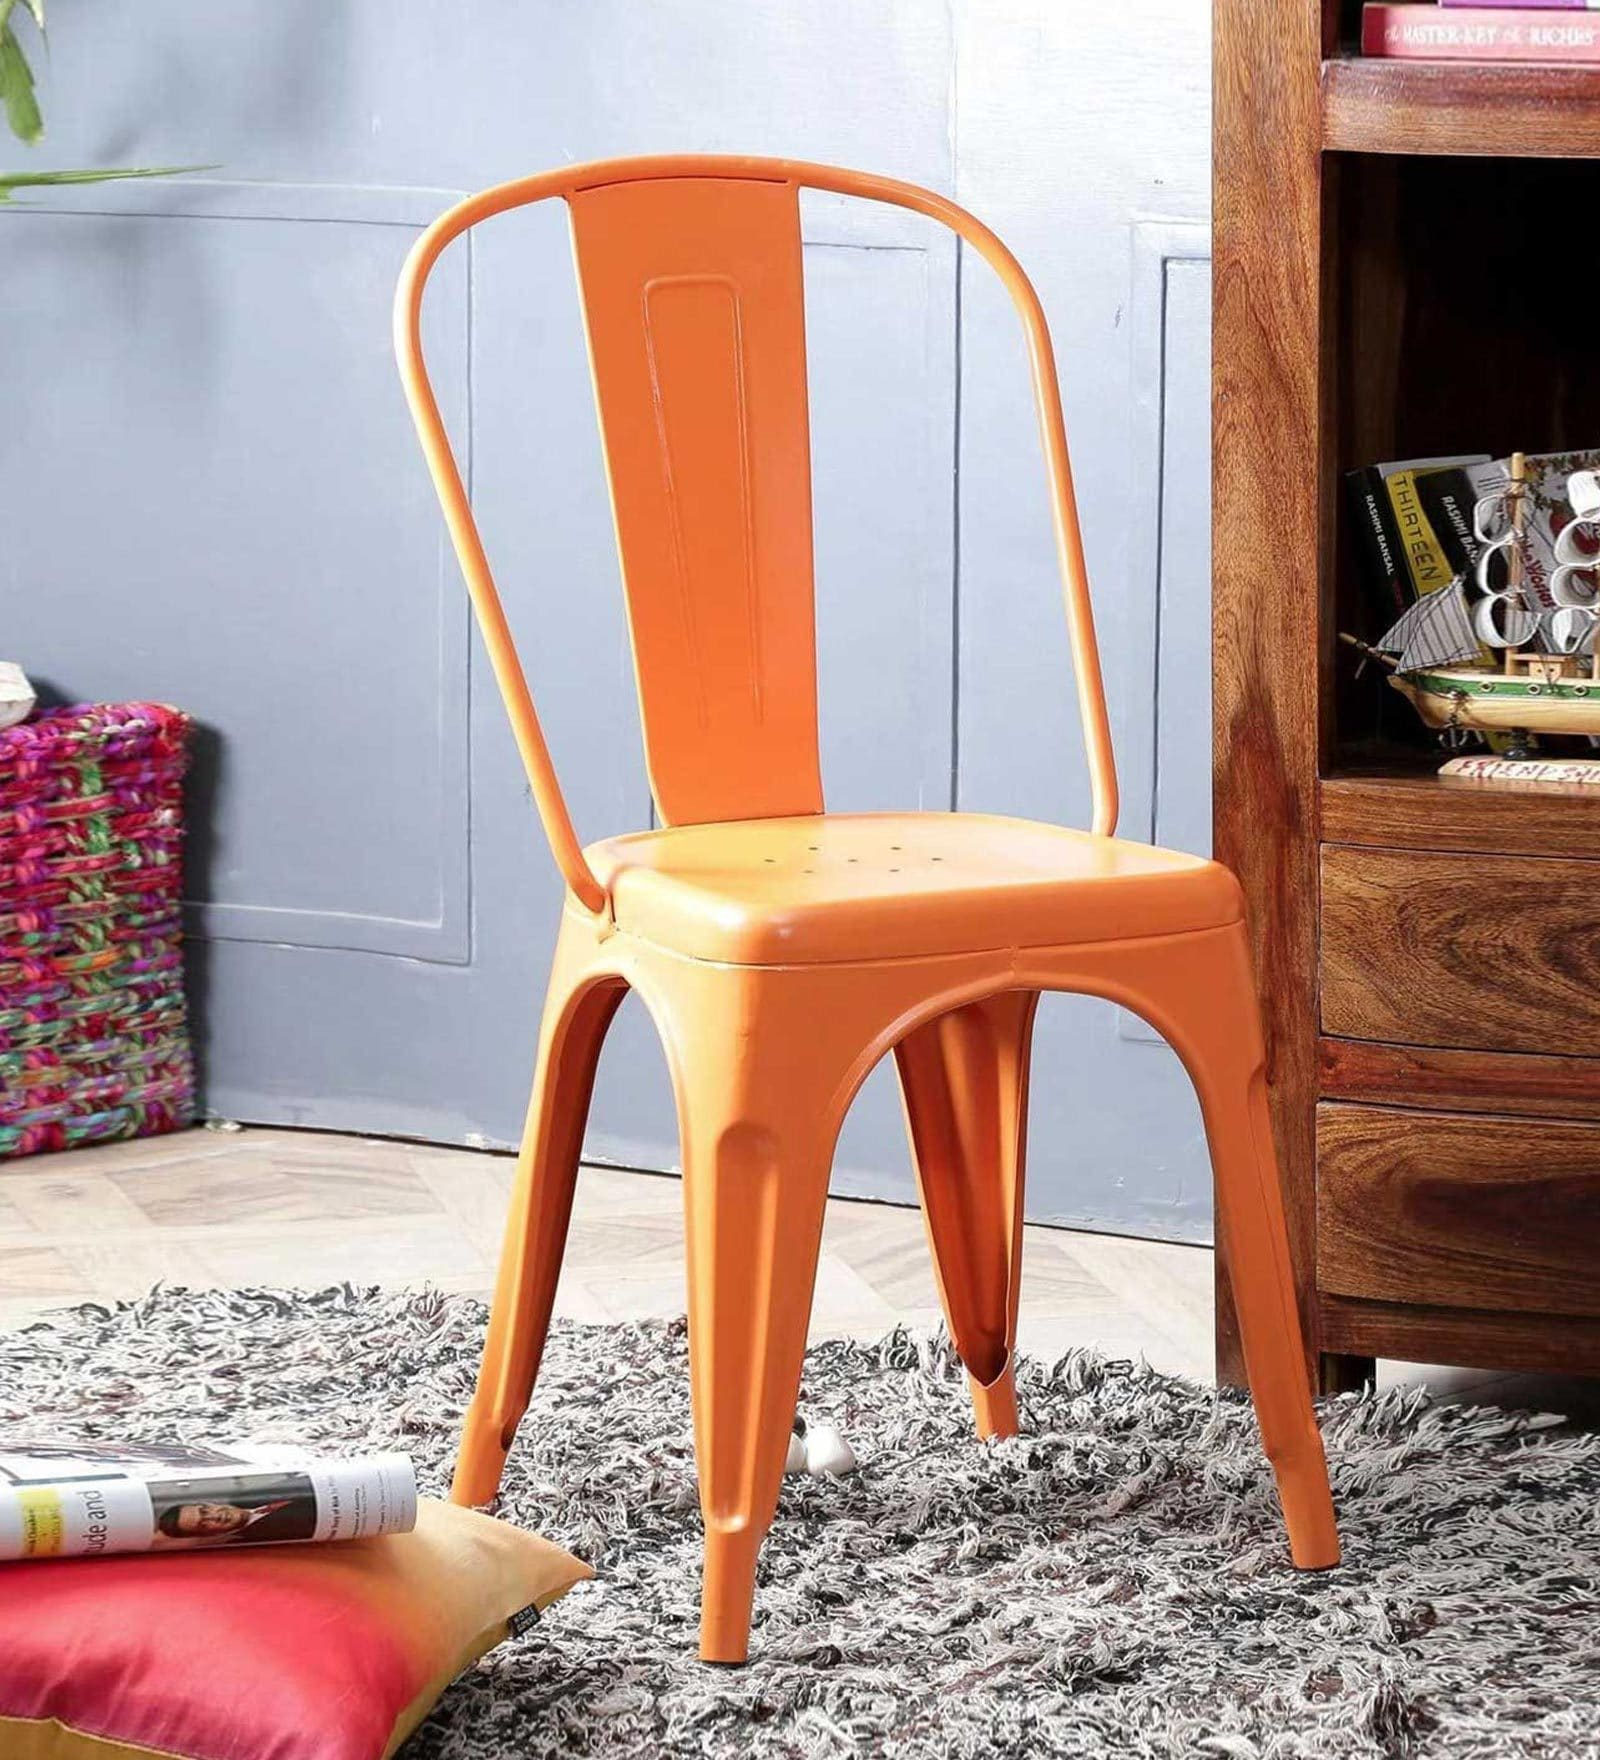Ekati Metal Chair in Distress Red Color with Wooden Seat by Bohemiana: (360, 123, 1376, 1693)
